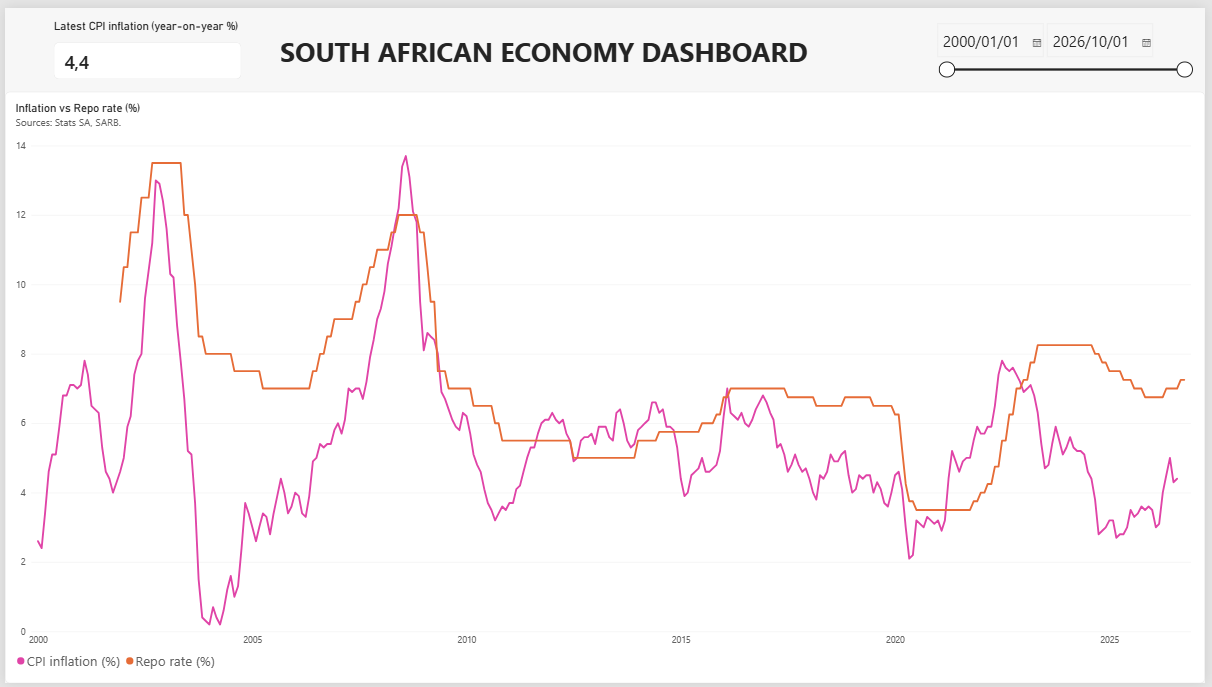

The page's visual inventory and layout, read from the dashboard file:
{"tool":"powerbi","page":{"name":"Page 1","canvas":[1920,1080],"ordinal":0},"visuals":[{"type":"lineChart","title":"Inflation vs Repo rate (%)","fields":{"Category":["cpi_inflation.date"],"Y":["Sum(cpi_inflation.inflation_yoy)","Sum(cpi_inflation.repo_rate)"]},"box":[0,134,1920,946],"z":0},{"type":"cardVisual","title":"Latest CPI inflation (year-on-year %)","fields":{"Data":["cpi_inflation.Latest inflation"]},"box":[78,18,300,96],"z":1000},{"type":"slicer","fields":{"Values":["cpi_inflation.date"]},"box":[1484,20,420,114],"z":2000},{"type":"textbox","box":[440.6,39.5,958.1,224.5],"z":3000}]}

Visuals, with their boxes in screenshot pixels (x1, y1, x2, y2), scaled from the page's 1920x1080 canvas onto the 1212x687 screenshot:
"Inflation vs Repo rate (%)" lineChart: 0:85:1211:686
"Latest CPI inflation (year-on-year %)" cardVisual: 49:11:239:73
slicer - cpi_inflation.date: 937:13:1202:85
textbox: 278:25:883:168
